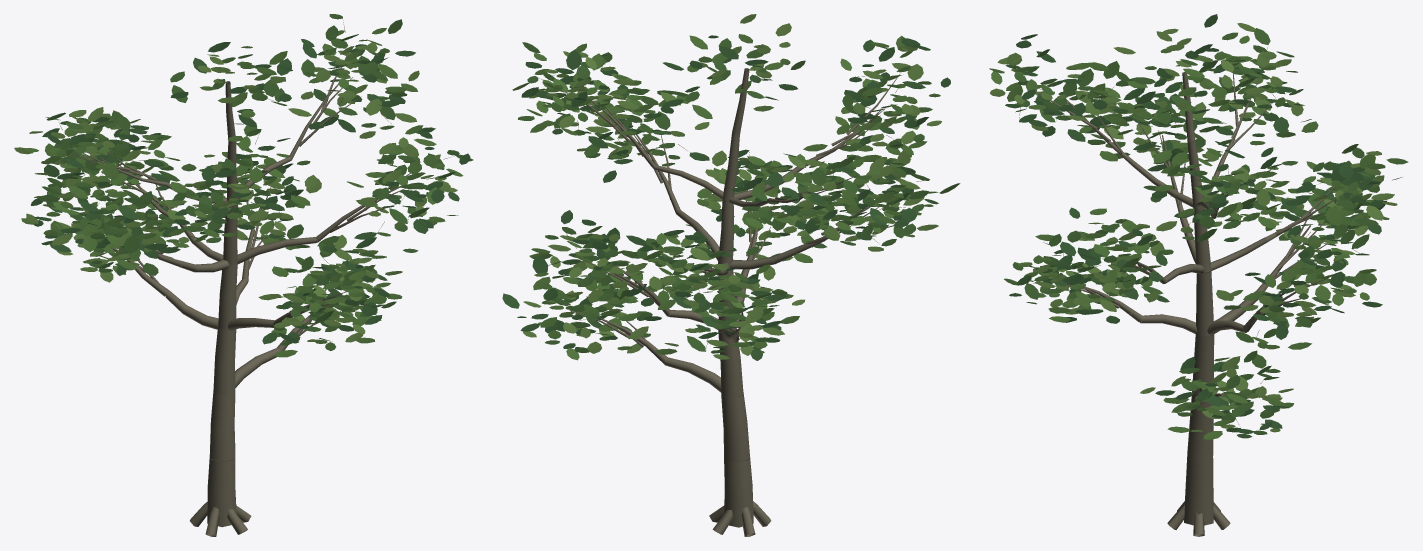
The model's file is Chene_0_Low.fbx.
3 renders of one model, left to right at view 1: azimuth 30°, elevation 25°; view 2: azimuth 150°, elevation 25°; view 3: azimuth 270°, elevation 25°, orthographic.
Parts seen in each view (by area): view 1: Chene_0_Low; view 2: Chene_0_Low; view 3: Chene_0_Low.
Part boxes in pixels (<box>): Chene_0_Low: <box>14,14,473,536</box>; Chene_0_Low: <box>502,14,960,536</box>; Chene_0_Low: <box>989,14,1408,536</box>.
Size of the model in its own units: 635 by 769 by 588.
